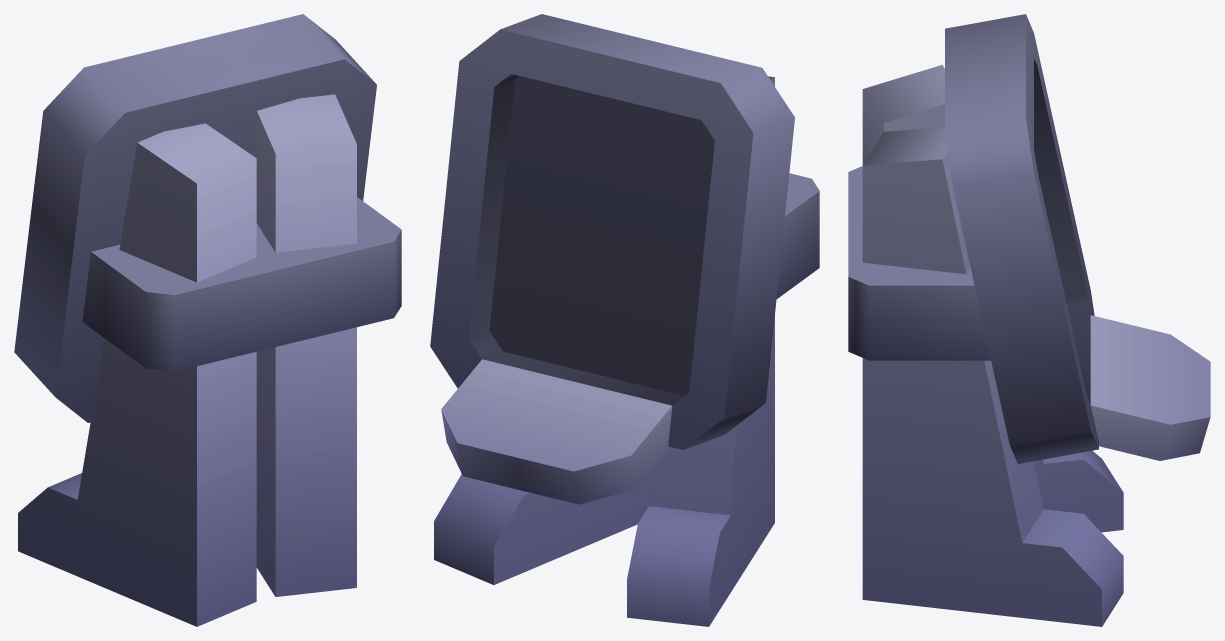
Rendered from screen-panel.glb.
3 renders of one model, left to right at view 1: azimuth 30°, elevation 25°; view 2: azimuth 150°, elevation 25°; view 3: azimuth 270°, elevation 25°, orthographic. The views are drawn at different scales.
Parts seen in each view (by area): view 1: screen-panel-small; view 2: screen-panel-small; view 3: screen-panel-small.
Part boxes in pixels (<box>): screen-panel-small: <box>14,14,401,626</box>; screen-panel-small: <box>430,14,819,626</box>; screen-panel-small: <box>848,14,1210,626</box>.
Bounding box in the file's own units: 0.6 × 0.9913 × 0.6572.
1 material, 1 textured.
